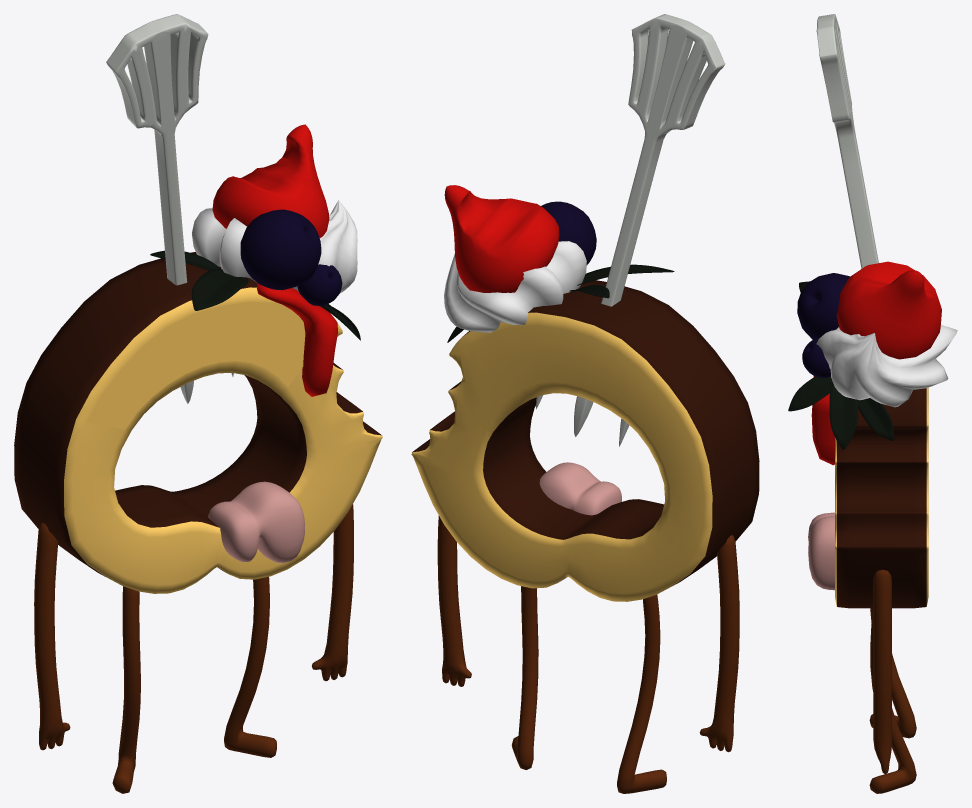
File: 롤롤최종.fbx
3 renders of one model, left to right at view 1: azimuth 30°, elevation 25°; view 2: azimuth 150°, elevation 25°; view 3: azimuth 270°, elevation 25°, orthographic. The views are drawn at different scales.
Visible parts, largest first — view 1: cake, Cube.001, cakeEmote1, fork, blueberrys, strawberry, cream, creamcorn, jam, leaves; view 2: cake, Cube.001, fork, strawberry, creamcorn, cream, blueberrys, leaves; view 3: cake, strawberry, creamcorn, Cube.001, fork, leaves, blueberrys, cream, jam.
Boxes of the visible parts, x1,y1,x2,y2 form: cake: (14,252,382,593); Cube.001: (34,504,353,793); cakeEmote1: (86,301,305,429); fork: (106,14,233,403); blueberrys: (240,209,342,305); strawberry: (212,124,329,237); cream: (208,481,304,563); creamcorn: (192,200,357,293); jam: (257,283,337,396); leaves: (150,250,360,340); cake: (411,280,759,601); Cube.001: (437,515,739,793); fork: (536,14,724,446); strawberry: (444,185,559,292); creamcorn: (444,241,586,332); cream: (539,462,621,515); blueberrys: (541,201,596,265); leaves: (447,264,674,342); cake: (835,387,928,608); strawberry: (836,261,941,359); creamcorn: (816,325,957,407); Cube.001: (869,569,916,793); fork: (816,14,878,268); leaves: (788,281,894,449); blueberrys: (797,273,849,377); cream: (808,512,834,590); jam: (811,376,834,465).
Size of the model in its own units: 62.41 by 147 by 31.49.
